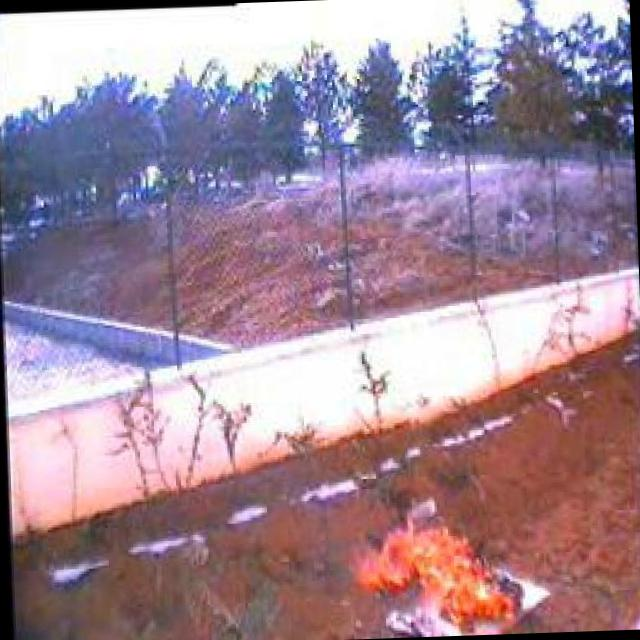Fire: (351, 495, 530, 639)
